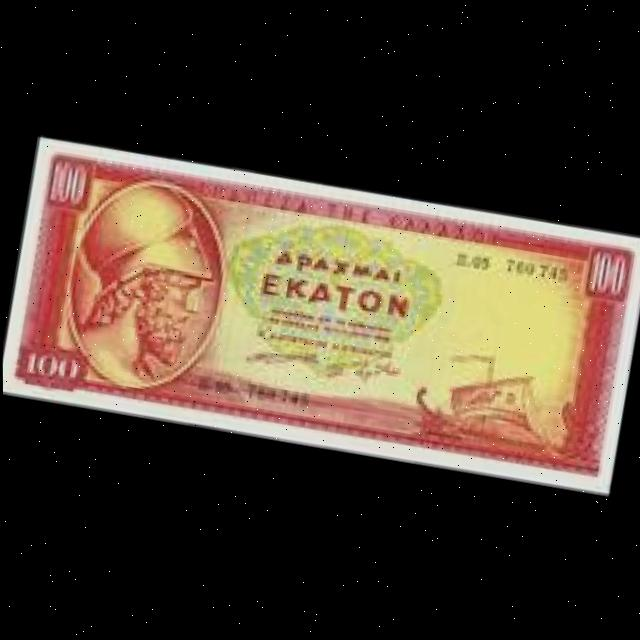banknote: (1, 129, 640, 500), (12, 337, 85, 396), (40, 151, 103, 215), (579, 240, 633, 302)
